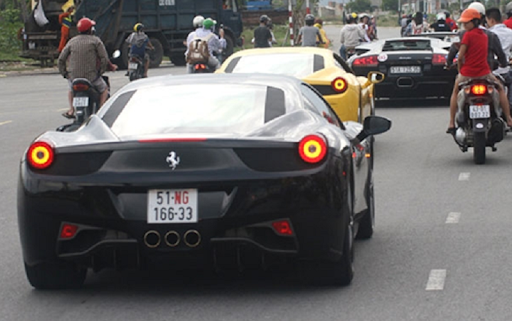number_plate: (138, 184, 216, 229)
